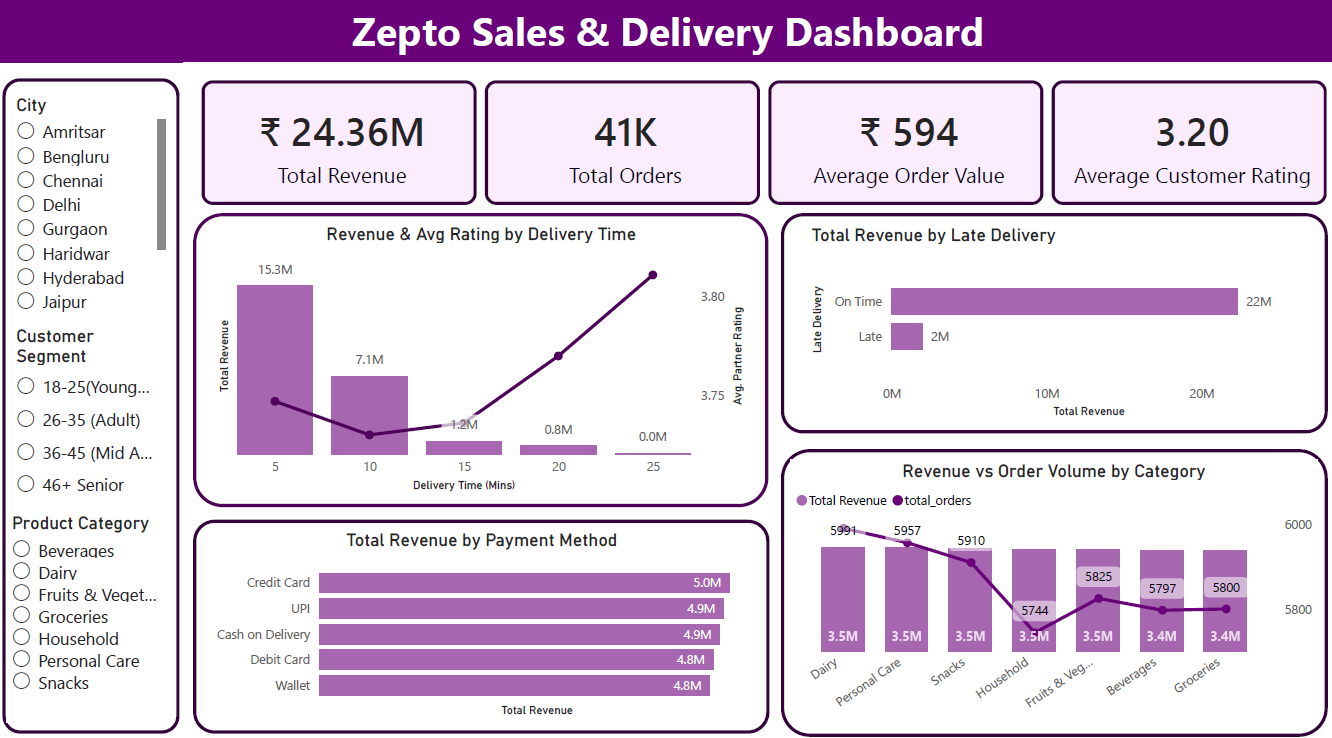

This screenshot's page, from the dashboard's own definition file:
{"tool":"powerbi","page":{"name":"Page 1","canvas":[1280,720],"ordinal":0},"visuals":[{"type":"shape","box":[0,0,1280.3,61.5],"z":0},{"type":"cardVisual","fields":{"Data":["public zepto.Total Revenue","public zepto.total_orders","public zepto.Average_order_value","public zepto.Average_rating"]},"box":[175.9,60.8,1104.4,152.6],"z":1000},{"type":"textbox","box":[0,0,1280,61],"z":2000},{"type":"shape","box":[184.6,204.2,546.6,278.8],"z":3000},{"type":"shape","box":[743.5,428,518.5,272.7],"z":4000},{"type":"lineClusteredColumnComboChart","title":"Revenue vs Order Volume by Category","fields":{"Y":["public zepto.Total Revenue"],"Category":["public zepto.Product_Category"],"Y2":["public zepto.total_orders"]},"box":[752,437.8,500.1,249.5],"z":5000},{"type":"lineClusteredColumnComboChart","title":"Revenue Decay vs. Service Quality","fields":{"Category":["public zepto.Delivery_Time_Min (bins)"],"Y2":["Avg(public zepto.Delivery_Partner_Rating)"],"Y":["Sum(public zepto.Order_Value)"]},"box":[204.2,212.8,508.7,260.5],"z":6000},{"type":"shape","box":[743.5,204.2,518.5,209.1],"z":7000},{"type":"donutChart","title":"Revenue Share by Age Demographic","fields":{"Y":["public zepto.Total Revenue"],"Category":["public zepto.Customer_Segment"]},"box":[763,212.8,479.4,177.3],"z":8000},{"type":"shape","box":[3.9,76.3,168.1,622],"z":9000},{"type":"shape","box":[184.9,495.3,547,203],"z":10000},{"type":"clusteredBarChart","fields":{"Category":["public zepto.Payment_Method"],"Y":["public zepto.Total Revenue"]},"box":[195.3,504.3,527.6,182.3],"z":11000},{"type":"listSlicer","fields":{"Values":["public zepto.City"]},"box":[11.6,90.5,152.6,218.5],"z":12000},{"type":"listSlicer","fields":{"Values":["public zepto.Customer_Segment"]},"box":[11.6,310.4,142.3,173.3],"z":13000},{"type":"listSlicer","fields":{"Values":["public zepto.Product_Category"]},"box":[7.8,487.5,156.5,199.2],"z":14000}]}

Visuals, with their boxes in screenshot pixels (x1, y1, x2, y2), scaled from the page's 1280x720 canvas onto the 1332x738 screenshot:
shape: BBox(0, 0, 1331, 63)
cardVisual - public zepto.Total Revenue x public zepto.total_orders: BBox(183, 62, 1331, 219)
textbox: BBox(0, 0, 1331, 63)
shape: BBox(192, 209, 761, 495)
shape: BBox(774, 439, 1313, 718)
"Revenue vs Order Volume by Category" lineClusteredColumnComboChart: BBox(783, 449, 1303, 704)
"Revenue Decay vs. Service Quality" lineClusteredColumnComboChart: BBox(212, 218, 742, 485)
shape: BBox(774, 209, 1313, 424)
"Revenue Share by Age Demographic" donutChart: BBox(794, 218, 1293, 400)
shape: BBox(4, 78, 179, 716)
shape: BBox(192, 508, 762, 716)
clusteredBarChart - public zepto.Payment_Method x public zepto.Total Revenue: BBox(203, 517, 752, 704)
listSlicer - public zepto.City: BBox(12, 93, 171, 317)
listSlicer - public zepto.Customer_Segment: BBox(12, 318, 160, 496)
listSlicer - public zepto.Product_Category: BBox(8, 500, 171, 704)
